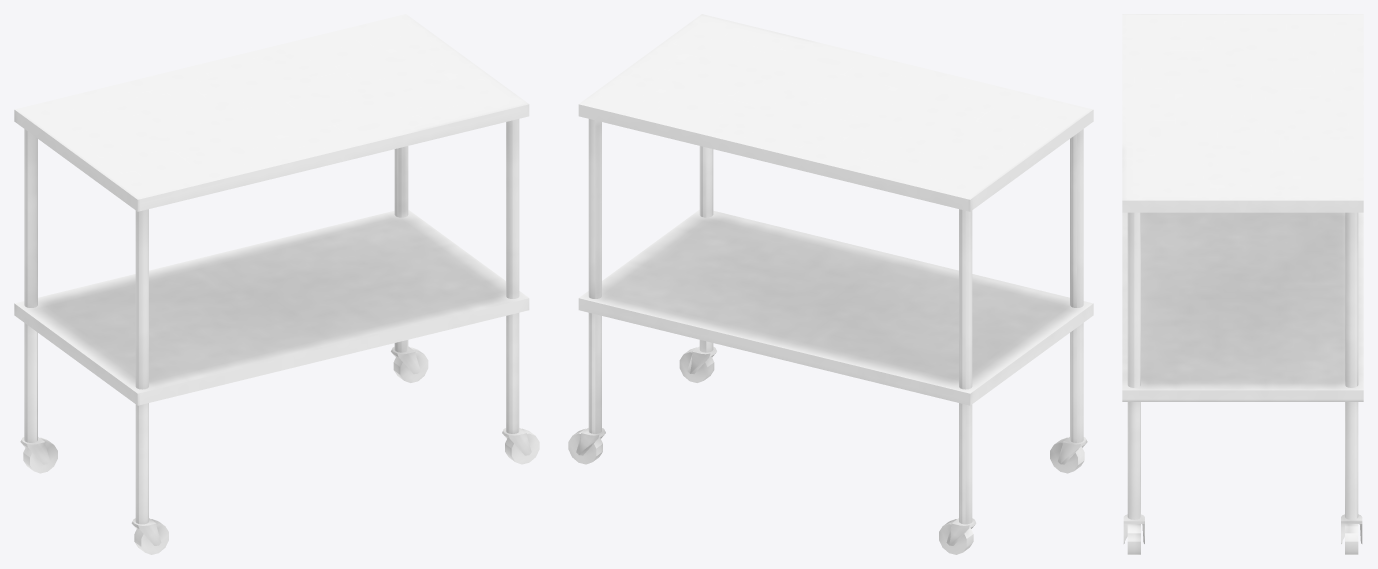
File: InstrumentTable.glb
The picture shows the model from 3 angles, left to right: view 1: azimuth 30°, elevation 25°; view 2: azimuth 150°, elevation 25°; view 3: azimuth 270°, elevation 25°; orthographic projection. The views are drawn at different scales.
Parts seen in each view (by area): view 1: InstrumentTable, InstrumentTable.001, InstrumentTable.002; view 2: InstrumentTable, InstrumentTable.001, InstrumentTable.002; view 3: InstrumentTable, InstrumentTable.001, InstrumentTable.002.
Part boxes in pixels (bbox=[...]): InstrumentTable: bbox=[14, 14, 529, 405]; InstrumentTable.001: bbox=[20, 119, 531, 545]; InstrumentTable.002: bbox=[23, 347, 539, 554]; InstrumentTable: bbox=[578, 14, 1093, 405]; InstrumentTable.001: bbox=[576, 119, 1087, 545]; InstrumentTable.002: bbox=[568, 347, 1084, 554]; InstrumentTable: bbox=[1122, 14, 1363, 401]; InstrumentTable.001: bbox=[1123, 212, 1362, 543]; InstrumentTable.002: bbox=[1127, 524, 1358, 554].
Size of the model in its own units: 0.8655 by 0.7384 by 0.4572.
Materials: 1 (1 with a texture image).
